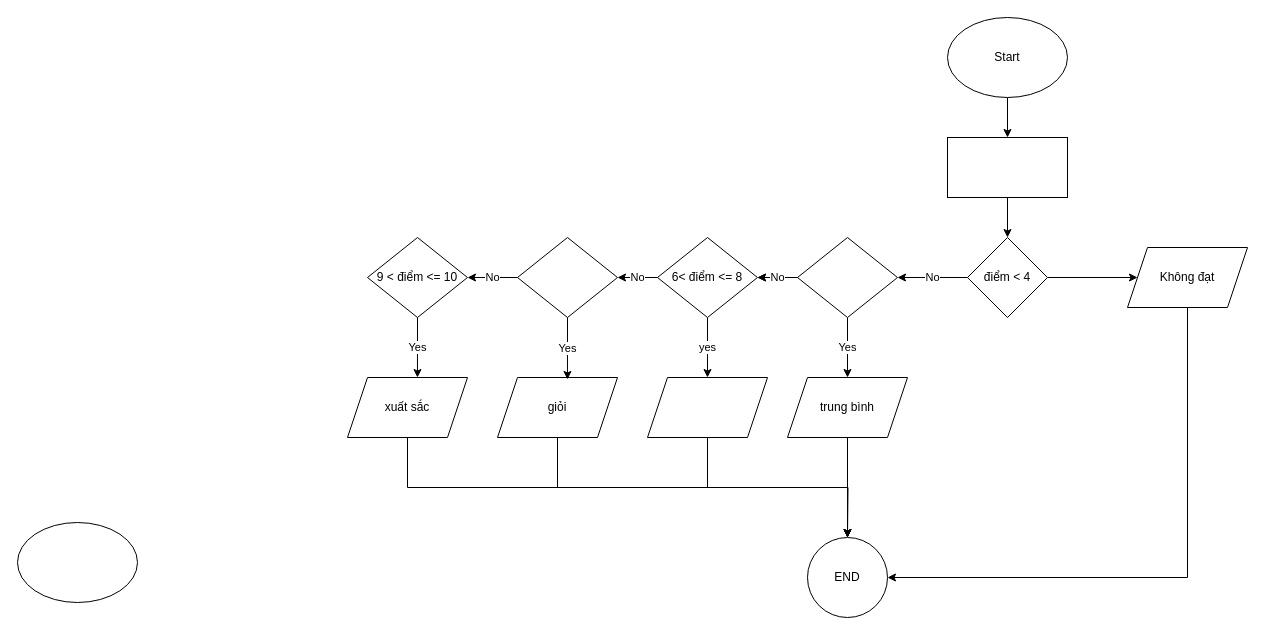
Image size: 1265x635. Some labels were removed from this diagram. Here are the shapes that lost their labels. From the top down, the box of each, then its label:
(946, 136, 1068, 198): Nhập điểm
(516, 236, 618, 318): 8 < điểm <= 9
(796, 236, 898, 318): 4 <= điểm <= 6
(646, 376, 768, 438): khá
